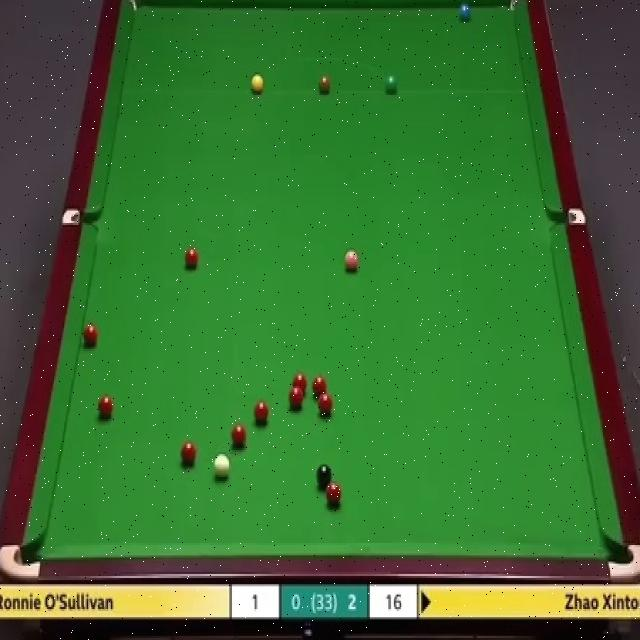black-ball: (317, 464, 332, 489)
blue-ball: (459, 2, 472, 24)
brown-ball: (318, 74, 331, 94)
green-ball: (383, 75, 397, 94)
pink-ball: (344, 252, 360, 274)
red-ball: (180, 440, 198, 470), (318, 390, 334, 420), (98, 393, 115, 419), (326, 481, 342, 508), (83, 325, 99, 351), (231, 423, 247, 449), (254, 398, 268, 424), (290, 388, 306, 410), (292, 372, 308, 393), (313, 376, 327, 398), (184, 250, 199, 268)
white-ball: (212, 454, 232, 481)
yellow-ball: (250, 74, 264, 94)
